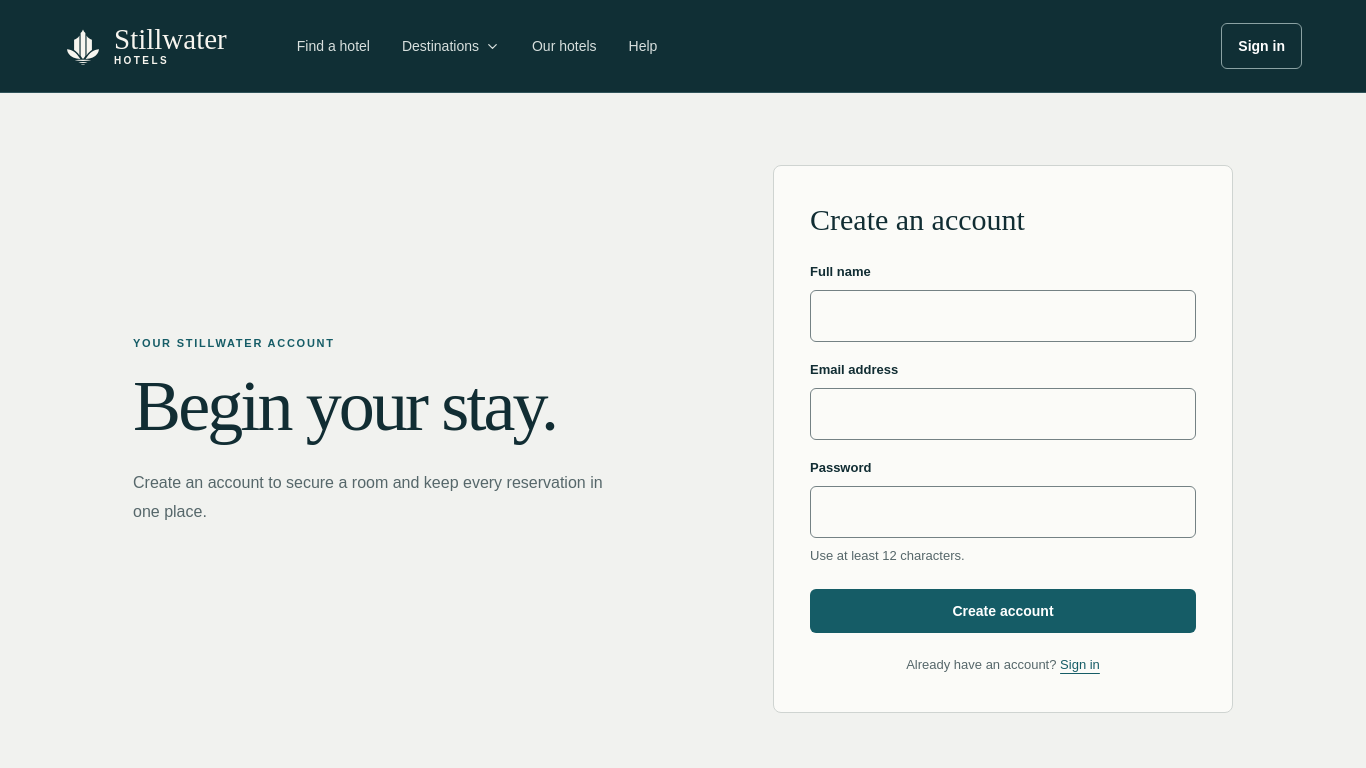
Test: customer application › registers, returns to review, and submits no client-controlled price
The width and height of the screenshot is (1366, 768).
Type "Sam Guest" into the field labelled "Full name" at (1003, 316), box [810, 290, 1196, 342]
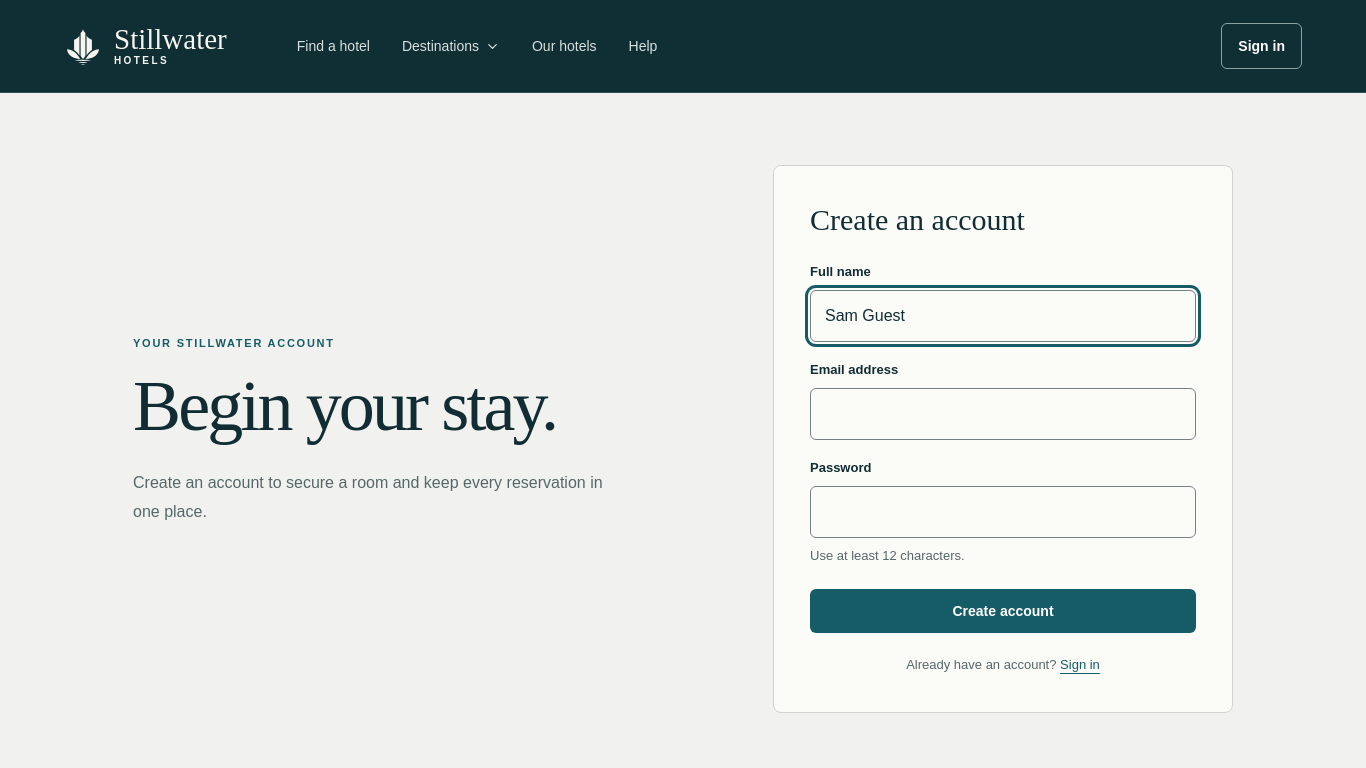
Type "sam@example.com" into the field labelled "Email address" at (1003, 414), box [810, 388, 1196, 440]
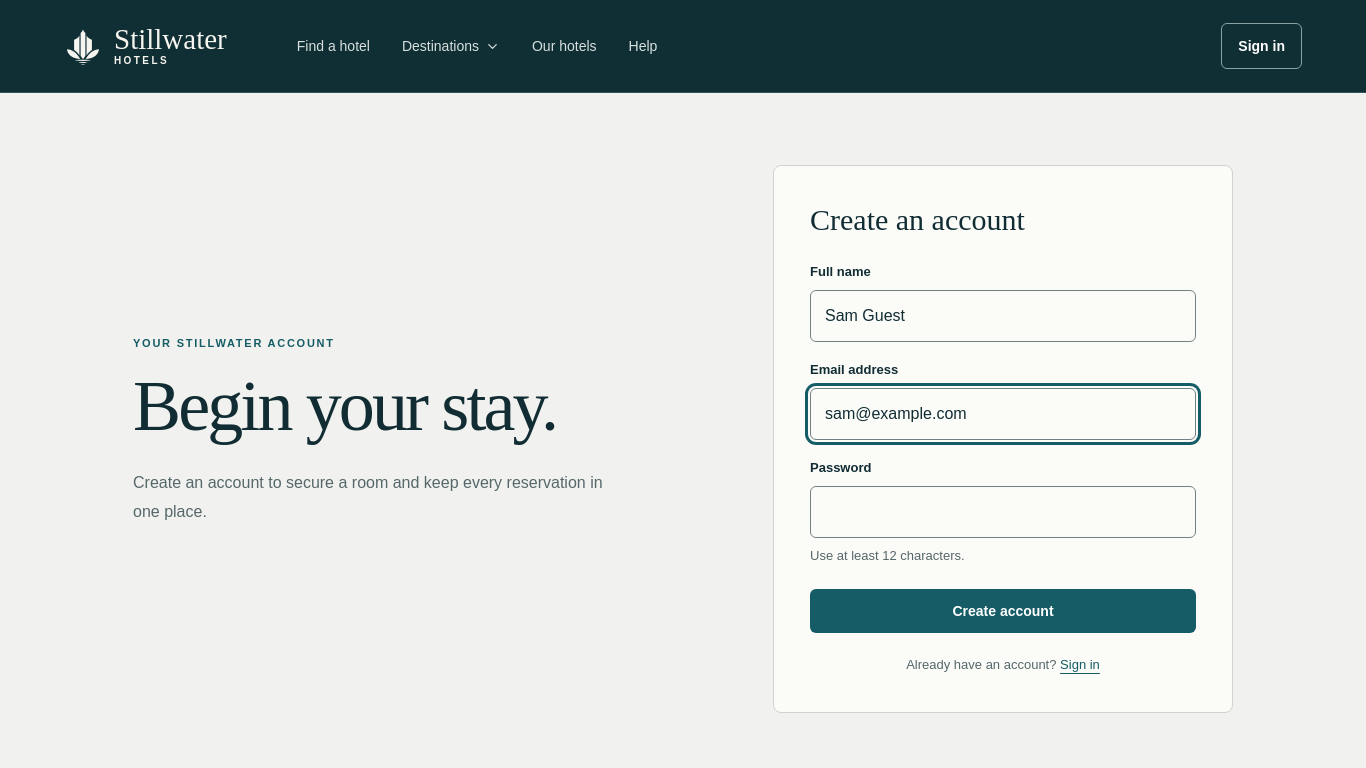
Type "long-password-123" into the password field labelled "Password" at (1003, 512), box [810, 486, 1196, 538]
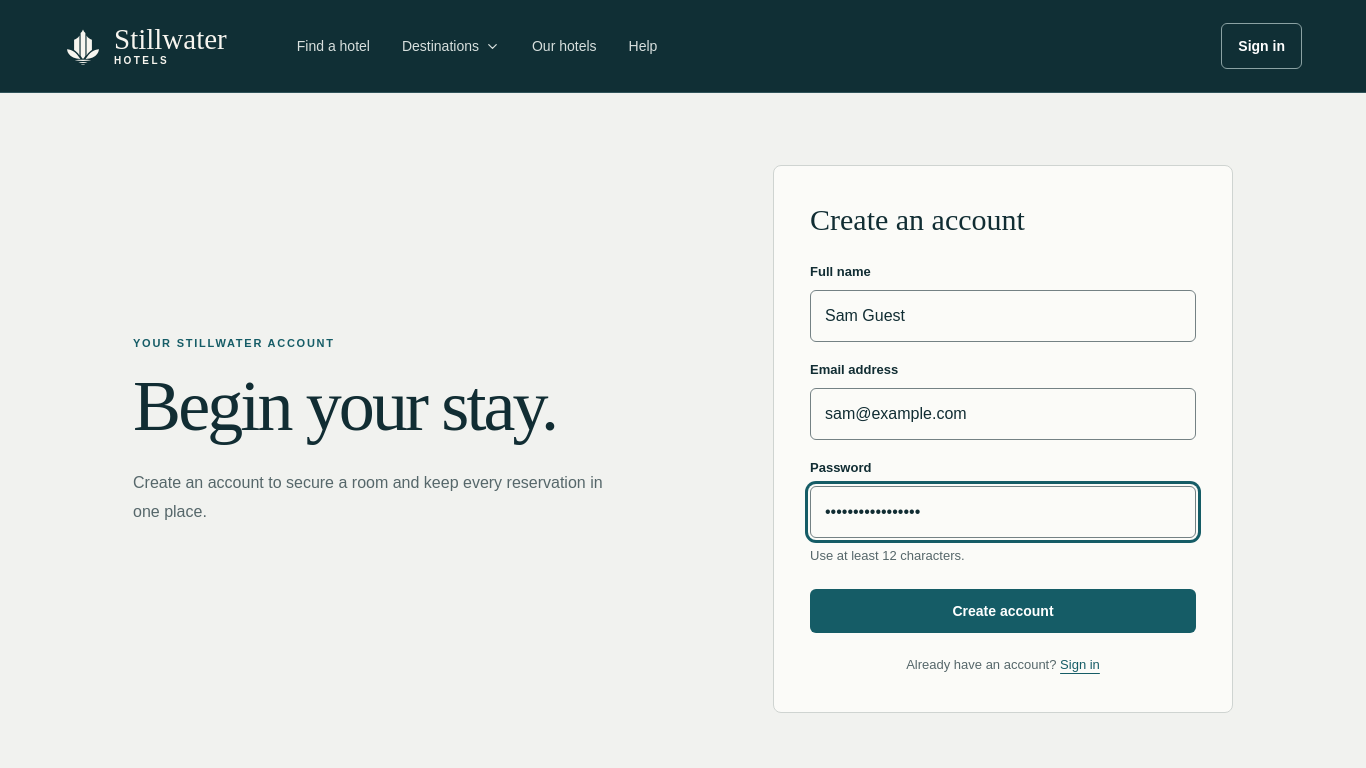
Click the button "Create account" at (1003, 611), box [810, 589, 1196, 633]
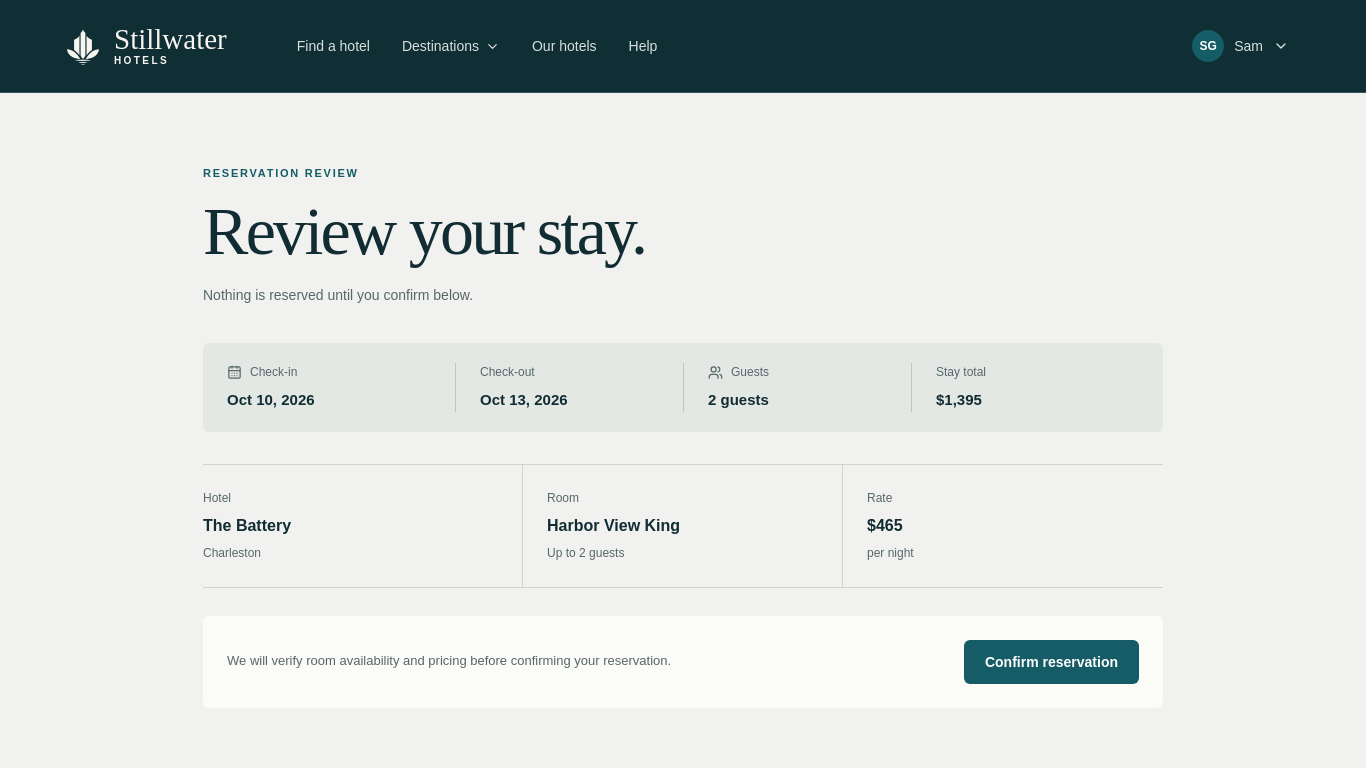
Now the heading "Review your stay." is shown, box [203, 193, 645, 269]
Now the text "$1,395" is shown, box [936, 391, 982, 408]
Click the button "Confirm reservation" at (1052, 662), box [964, 640, 1139, 684]
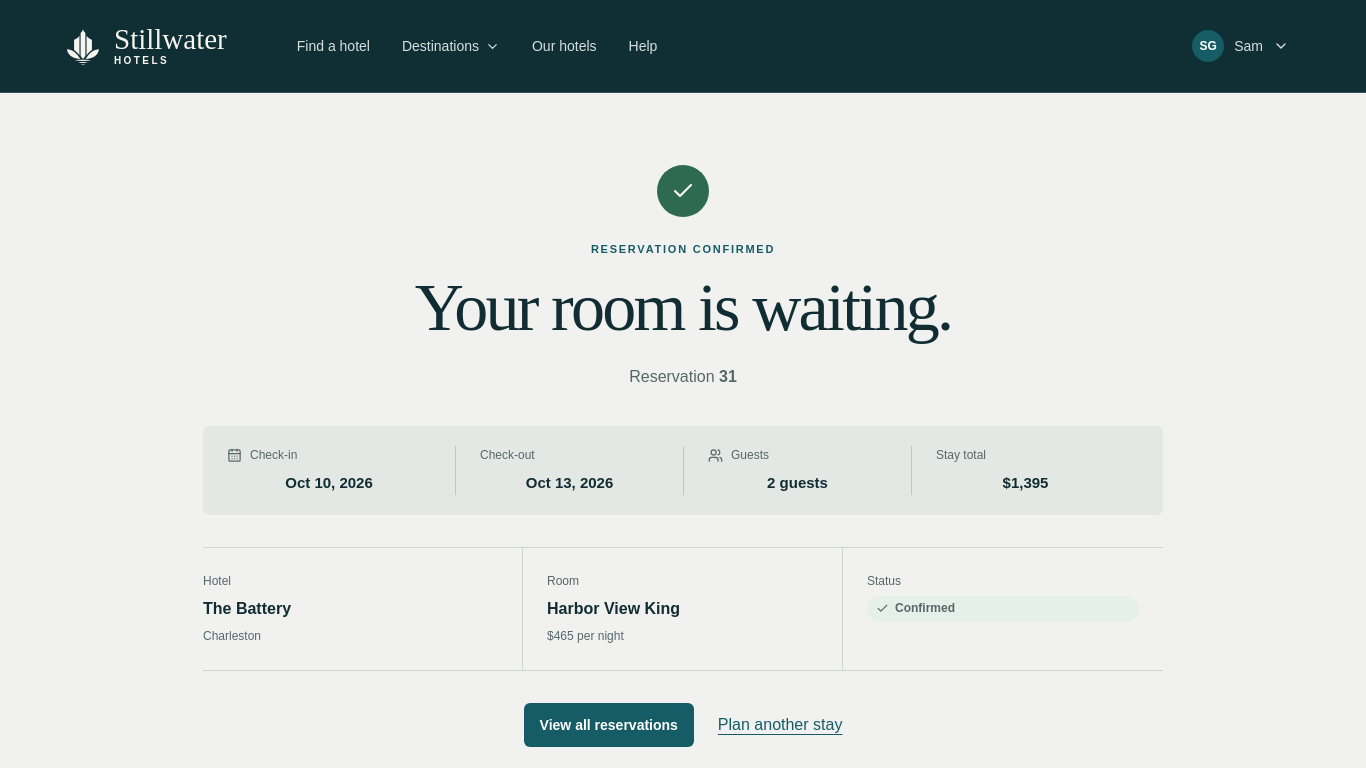
Now the heading "Your room is waiting." is shown, box [415, 269, 951, 345]
